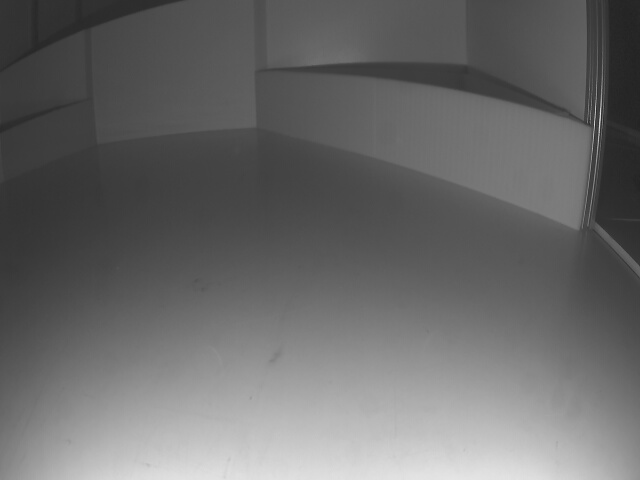Point: (255, 71, 578, 232), (0, 102, 92, 186)
